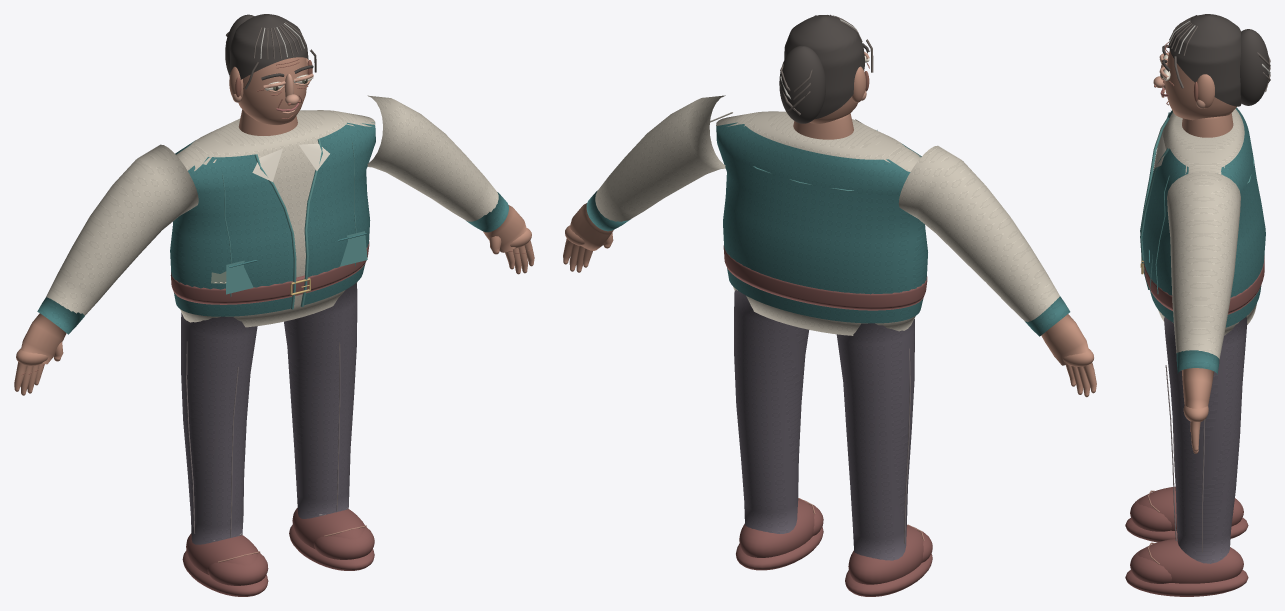
3 renders of one model, left to right at view 1: azimuth 30°, elevation 25°; view 2: azimuth 150°, elevation 25°; view 3: azimuth 270°, elevation 25°, orthographic. The views are drawn at different scales.
Parts seen in each view (by area): view 1: Open wool vest, L trouser leg, R trouser leg, L linen sleeve, Linen blouse torso, R linen sleeve, Swept hair cap, Soft oxblood leather belt, Face and head, L shoe upper, R shoe upper, L hand palm (+8 smaller); view 2: Open wool vest, L trouser leg, R trouser leg, L linen sleeve, R linen sleeve, Linen blouse torso, Swept hair cap, Soft oxblood leather belt, Loose hair twist, L shoe upper, R shoe upper, L hand palm (+5 smaller); view 3: R trouser leg, R linen sleeve, Open wool vest, Swept hair cap, Linen blouse torso, R shoe upper, Loose hair twist, Face and head, R shoe sole, R hand palm, L shoe upper, Soft oxblood leather belt (+11 smaller).
Boxes of the visible parts, x1=… form: Open wool vest: x1=170, y1=122, x2=375, y2=316; L trouser leg: x1=181, y1=312, x2=257, y2=544; R trouser leg: x1=284, y1=283, x2=357, y2=518; L linen sleeve: x1=46, y1=144, x2=198, y2=315; Linen blouse torso: x1=176, y1=110, x2=375, y2=327; R linen sleeve: x1=367, y1=95, x2=498, y2=221; Swept hair cap: x1=229, y1=14, x2=308, y2=79; Soft oxblood leather belt: x1=170, y1=241, x2=369, y2=304; Face and head: x1=238, y1=57, x2=307, y2=125; L shoe upper: x1=186, y1=533, x2=258, y2=574; R shoe upper: x1=292, y1=508, x2=365, y2=549; L hand palm: x1=21, y1=313, x2=66, y2=364; Open wool vest: x1=716, y1=122, x2=927, y2=323; L trouser leg: x1=836, y1=319, x2=914, y2=560; R trouser leg: x1=734, y1=289, x2=808, y2=533; L linen sleeve: x1=898, y1=145, x2=1059, y2=321; R linen sleeve: x1=595, y1=95, x2=725, y2=221; Linen blouse torso: x1=716, y1=111, x2=921, y2=335; Swept hair cap: x1=784, y1=15, x2=864, y2=119; Soft oxblood leather belt: x1=723, y1=245, x2=927, y2=310; Loose hair twist: x1=779, y1=45, x2=825, y2=123; L shoe upper: x1=848, y1=525, x2=923, y2=584; R shoe upper: x1=739, y1=498, x2=814, y2=557; L hand palm: x1=1041, y1=314, x2=1088, y2=365; R trouser leg: x1=1164, y1=316, x2=1247, y2=563; R linen sleeve: x1=1167, y1=171, x2=1240, y2=359; Open wool vest: x1=1142, y1=107, x2=1265, y2=327; Swept hair cap: x1=1169, y1=14, x2=1241, y2=106; Linen blouse torso: x1=1153, y1=109, x2=1256, y2=335; R shoe upper: x1=1138, y1=538, x2=1243, y2=583; Loose hair twist: x1=1240, y1=29, x2=1269, y2=105; Face and head: x1=1165, y1=50, x2=1236, y2=120; R shoe sole: x1=1125, y1=569, x2=1248, y2=596; R hand palm: x1=1181, y1=368, x2=1213, y2=408; L shoe upper: x1=1138, y1=486, x2=1243, y2=530; Soft oxblood leather belt: x1=1143, y1=255, x2=1264, y2=314.
Size of the model in its own units: 2 by 2.01 by 0.484.
Materials: 21 (3 with a texture image).
